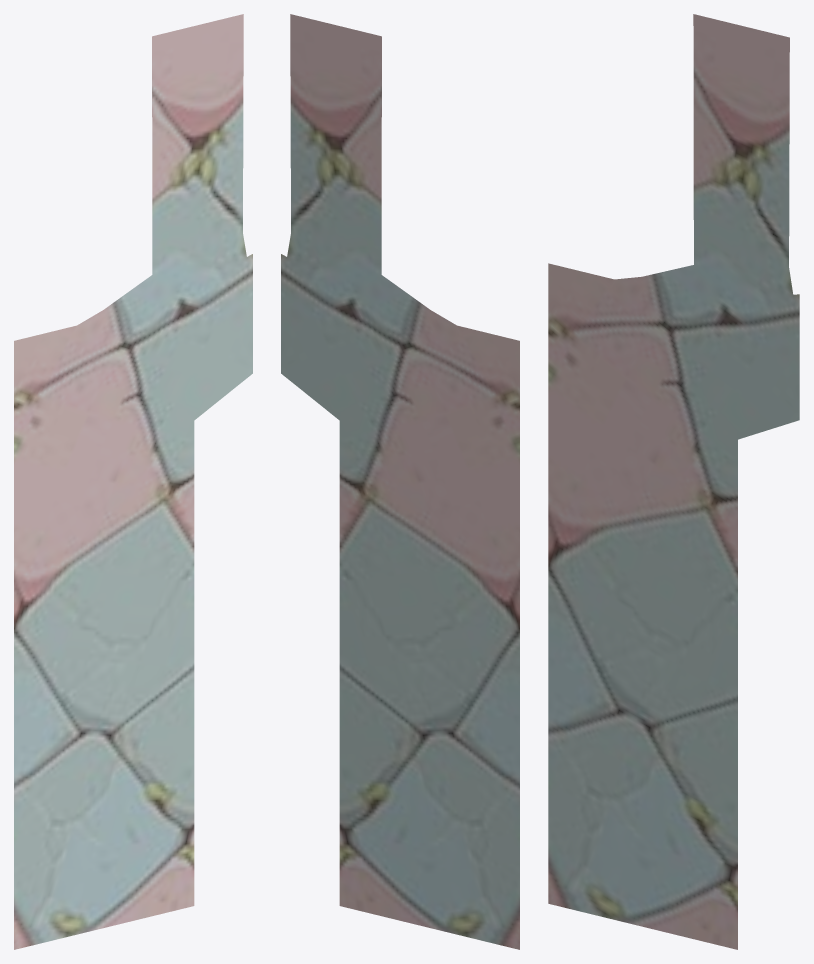
File: plat-1.obj
3 renders of one model, left to right at view 1: azimuth 30°, elevation 25°; view 2: azimuth 150°, elevation 25°; view 3: azimuth 330°, elevation 25°, orthographic. The views are drawn at different scales.
Parts seen in each view (by area): view 1: Group55180; view 2: Group55180; view 3: Group55180.
Part boxes in pixels (bbox=[...]): Group55180: bbox=[14, 14, 252, 949]; Group55180: bbox=[281, 14, 519, 949]; Group55180: bbox=[548, 14, 799, 949].
Bounding box in the file's own units: 2.65 × 9.33 × 0.
